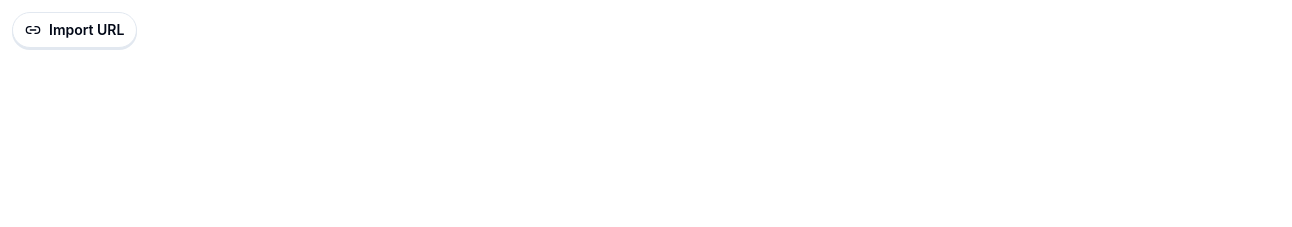
Test: URL import review › cancels in-flight work and ignores a late response
Later steps or results of the test are not shown.
Click the button "Import URL".
click(75, 30)  # box [12,12,137,48]
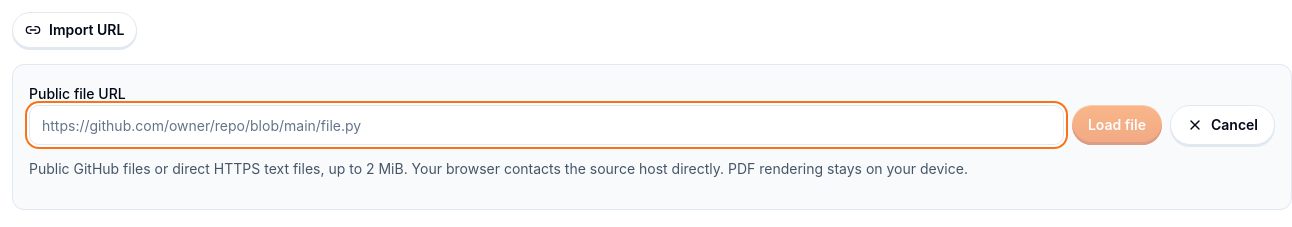
Type "https://example.org/main.py" into the field labelled "Public file URL".
click(546, 125); type("https://example.org/main.py")  # box [29,105,1064,145]
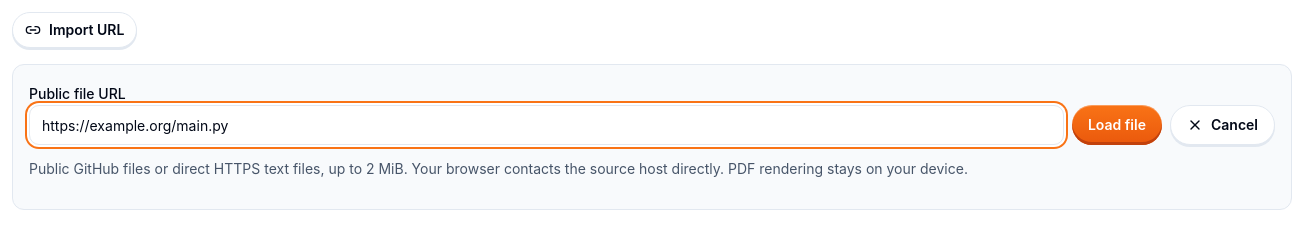
Submit the form labelled "Public file URL", box [29,81,1275,181]
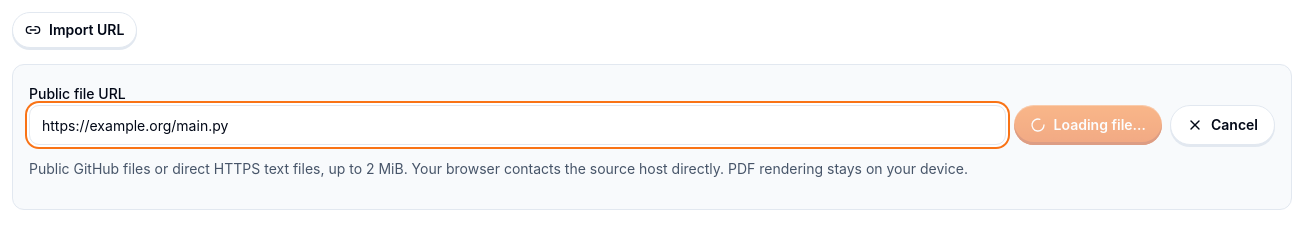
Expected: the button "Loading file…" is disabled, [1014,105,1162,145]
